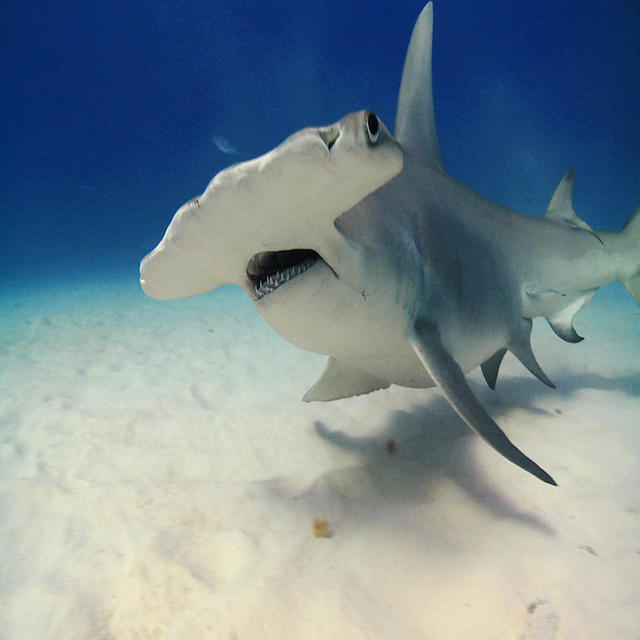hammerhead: (80, 64, 506, 357)
